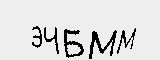Б: (62, 25, 84, 60)
М: (87, 28, 119, 60), (115, 26, 137, 57)
Ч: (41, 24, 61, 56)
Э: (30, 24, 46, 51)
